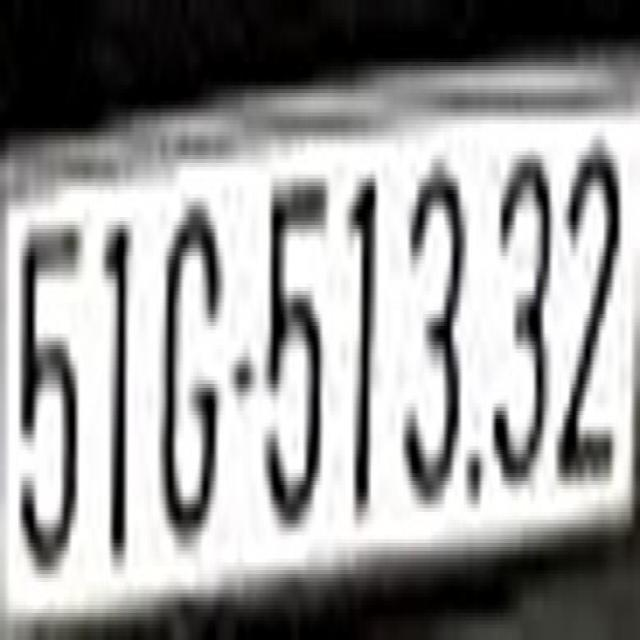1: (101, 206, 131, 558), (347, 167, 375, 520)
2: (555, 144, 625, 504)
3: (400, 163, 464, 524), (491, 140, 551, 497)
5: (260, 144, 329, 532), (19, 214, 79, 566)
G: (160, 182, 225, 543)
